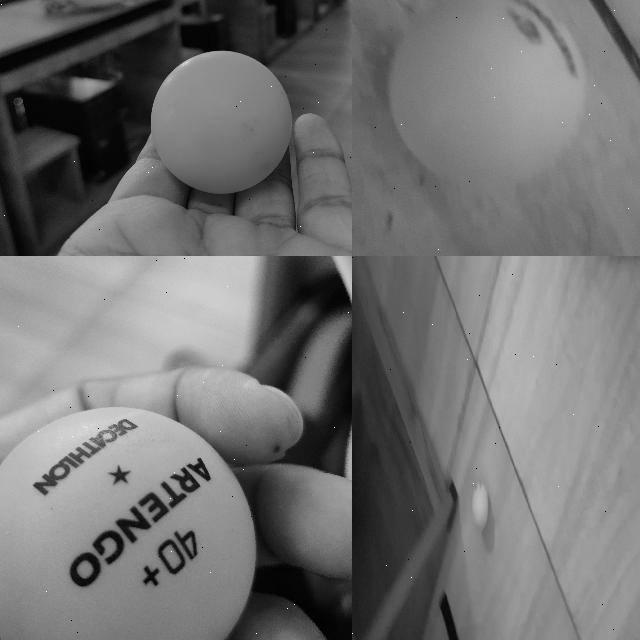ping-pong-ball: (0, 407, 260, 639), (386, 0, 583, 188), (149, 51, 293, 193), (472, 482, 488, 532)
